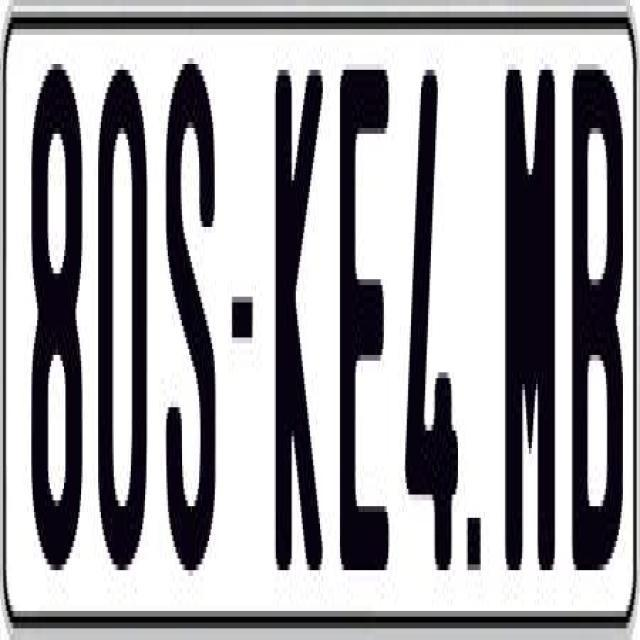0: (95, 64, 152, 588)
4: (402, 52, 460, 553)
8: (29, 46, 80, 576)
B: (568, 58, 614, 570)
E: (336, 52, 386, 564)
K: (273, 52, 320, 558)
M: (501, 63, 554, 564)
S: (162, 58, 213, 582)
